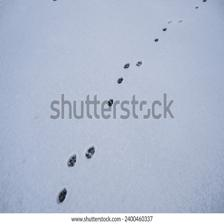rabbit: (52, 144, 97, 205)
